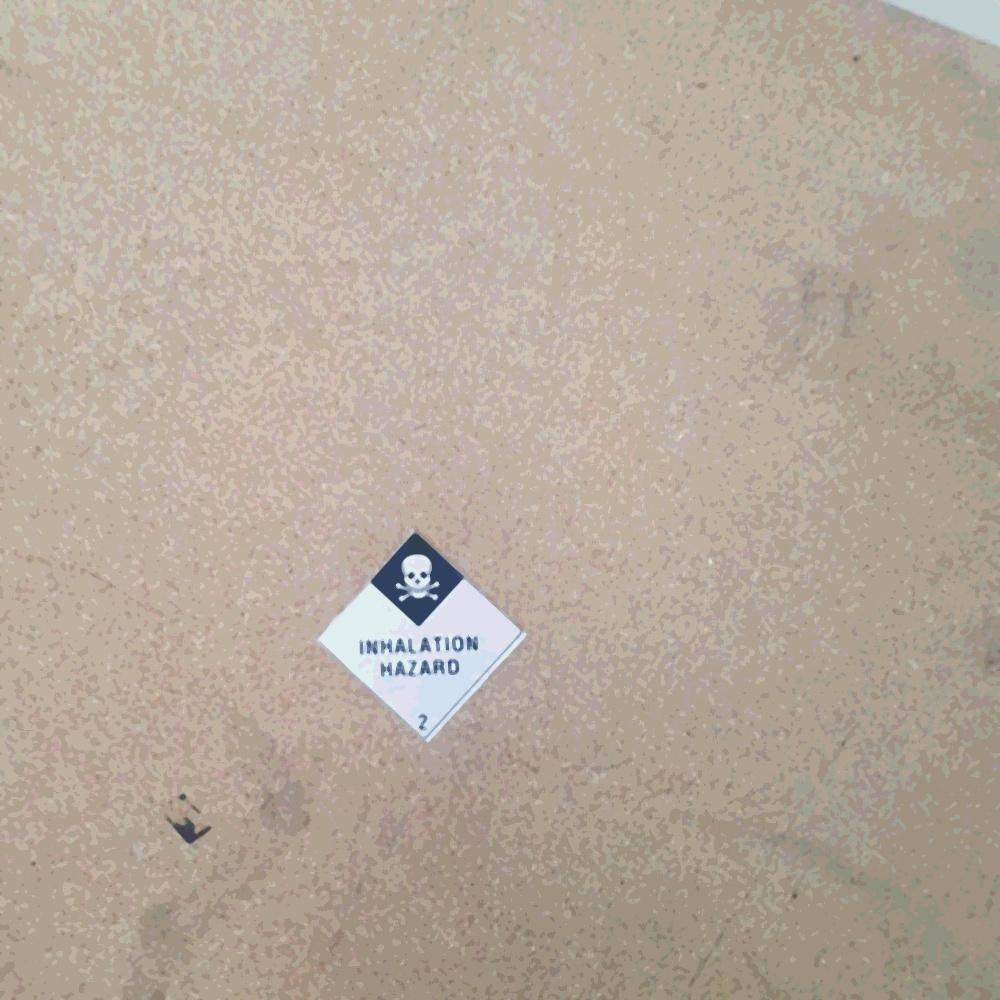poison: (316, 528, 529, 746)
